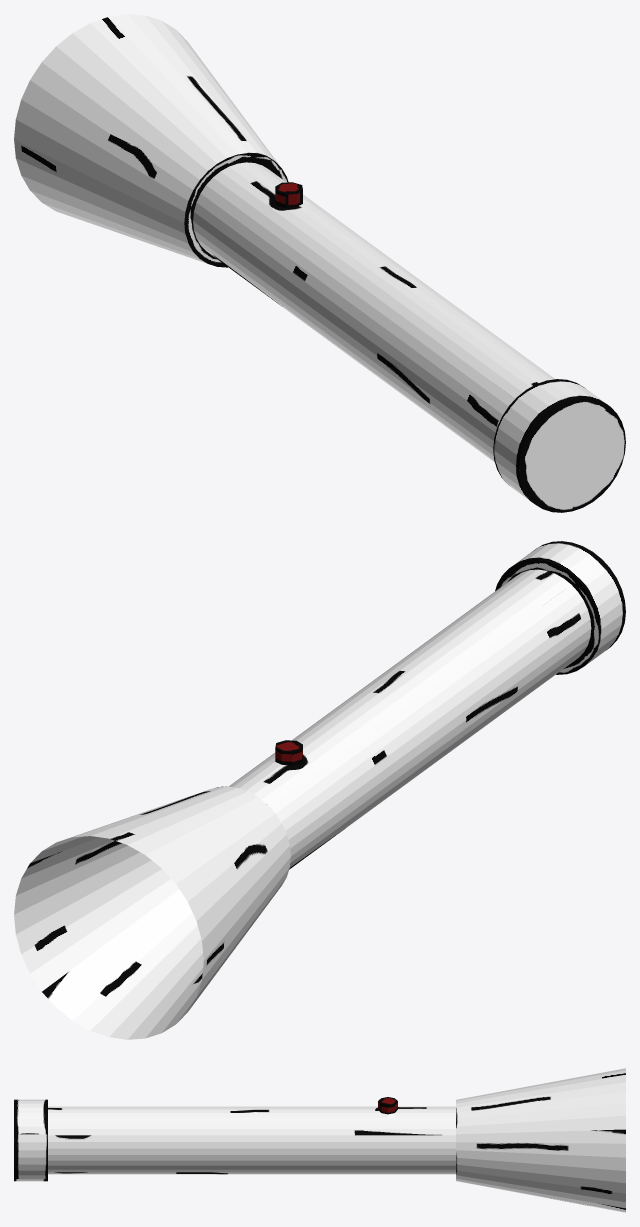
Rendered from torch.fbx.
3 renders of one model, top to bottom at view 1: azimuth 30°, elevation 25°; view 2: azimuth 150°, elevation 25°; view 3: azimuth 270°, elevation 25°, orthographic. The views are drawn at different scales.
Parts seen in each view (by area): view 1: Cylinder; view 2: Cylinder; view 3: Cylinder.
Part boxes in pixels (x1,y1,x2,y2): Cylinder: [14, 14, 625, 512]; Cylinder: [14, 541, 625, 1039]; Cylinder: [14, 1068, 625, 1212].
Size of the model in its own units: 42.55 by 42.55 by 180.
